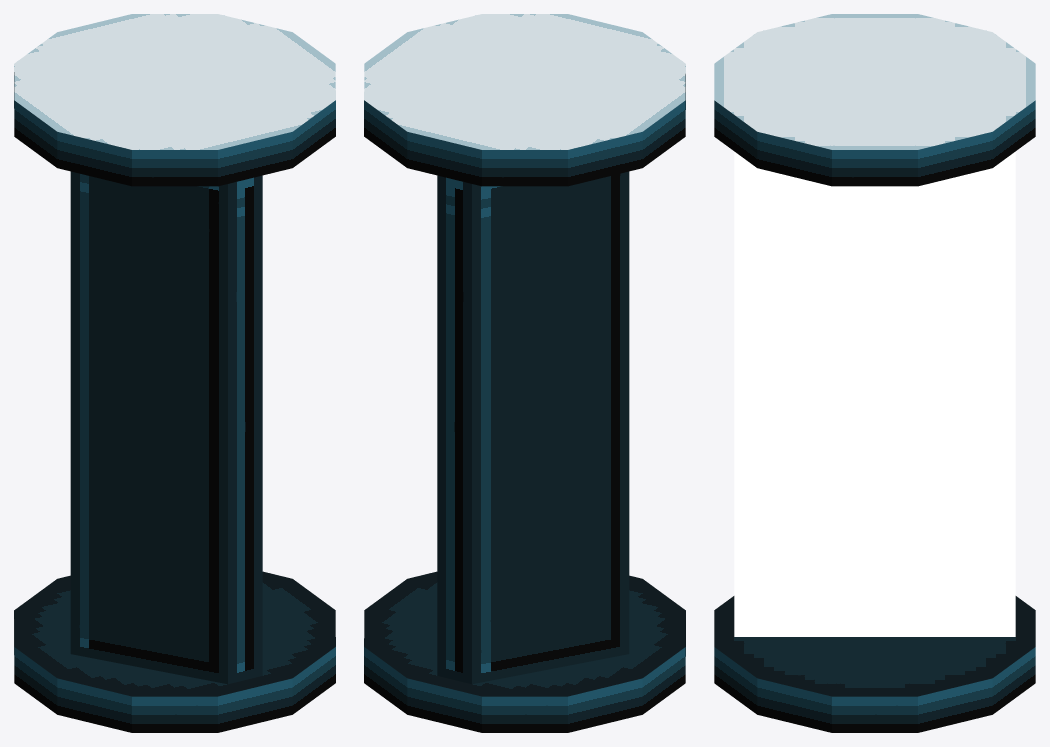
File: SpinningLight.glb
3 renders of one model, left to right at view 1: azimuth 30°, elevation 25°; view 2: azimuth 150°, elevation 25°; view 3: azimuth 270°, elevation 25°, orthographic.
Visible parts, largest first — view 1: LightSpinner, top, bottom; view 2: LightSpinner, top, bottom; view 3: Light, top, bottom.
Part boxes in pixels (x1,y1,x2,y2): LightSpinner: (70,171,262,684); top: (14,14,335,186); bottom: (14,571,335,732); LightSpinner: (437,171,629,684); top: (364,14,685,186); bottom: (364,571,685,732); Light: (734,151,1015,636); top: (714,14,1035,186); bottom: (714,596,1035,732).
Size of the model in its own units: 1 by 2 by 1.
2 materials, 1 textured.
